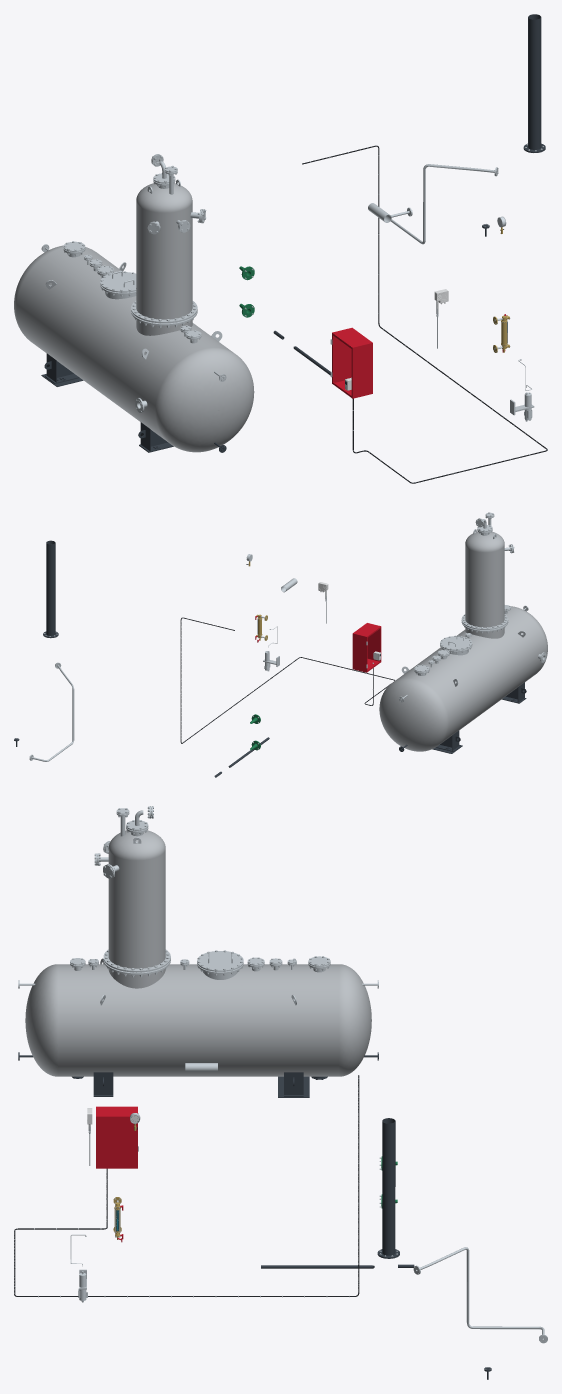
File: s4000-1-CVwjHcLh.glb
3 views of the same model, one above another, from view 1: azimuth 30°, elevation 25°; view 2: azimuth 150°, elevation 25°; view 3: azimuth 270°, elevation 25° (orthographic). The views are drawn at different scales.
Parts seen in each view (by area): view 1: deaerator CAD solid 56, deaerator CAD solid 257, control_cabinet / control_cabinet_0.npz, bdv_vent / dark, mod_eco_drive_cable / black, trap_gap_to_bdv / steel, deaerator CAD solid 408; view 2: deaerator CAD solid 56, deaerator CAD solid 257, control_cabinet / control_cabinet_0.npz, bdv_vent / dark, mod_eco_drive_cable / black, trap_gap_to_bdv / steel, deaerator CAD solid 408; view 3: deaerator CAD solid 56, deaerator CAD solid 257, control_cabinet / control_cabinet_0.npz, bdv_vent / dark, mod_eco_drive_cable / black, trap_gap_to_bdv / steel, deaerator CAD solid 408.
Part boxes in pixels (bbox=[...]): deaerator CAD solid 56: bbox=[14, 245, 254, 452]; deaerator CAD solid 257: bbox=[136, 183, 192, 319]; control_cabinet / control_cabinet_0.npz: bbox=[330, 327, 372, 398]; bdv_vent / dark: bbox=[523, 14, 545, 152]; mod_eco_drive_cable / black: bbox=[302, 145, 547, 483]; trap_gap_to_bdv / steel: bbox=[390, 164, 498, 244]; deaerator CAD solid 408: bbox=[100, 272, 136, 292]; deaerator CAD solid 56: bbox=[379, 606, 547, 751]; deaerator CAD solid 257: bbox=[465, 531, 504, 627]; control_cabinet / control_cabinet_0.npz: bbox=[352, 623, 381, 672]; bdv_vent / dark: bbox=[43, 540, 58, 638]; mod_eco_drive_cable / black: bbox=[180, 617, 394, 743]; trap_gap_to_bdv / steel: bbox=[29, 662, 74, 761]; deaerator CAD solid 408: bbox=[440, 636, 472, 650]; deaerator CAD solid 56: bbox=[25, 964, 371, 1076]; deaerator CAD solid 257: bbox=[108, 830, 165, 968]; control_cabinet / control_cabinet_0.npz: bbox=[96, 1106, 138, 1168]; bdv_vent / dark: bbox=[377, 1118, 399, 1258]; mod_eco_drive_cable / black: bbox=[14, 1075, 359, 1296]; trap_gap_to_bdv / steel: bbox=[413, 1247, 547, 1343]; deaerator CAD solid 408: bbox=[197, 951, 243, 971].
Bounding box in the file's own units: 8.25 × 4.73 × 6.74.
